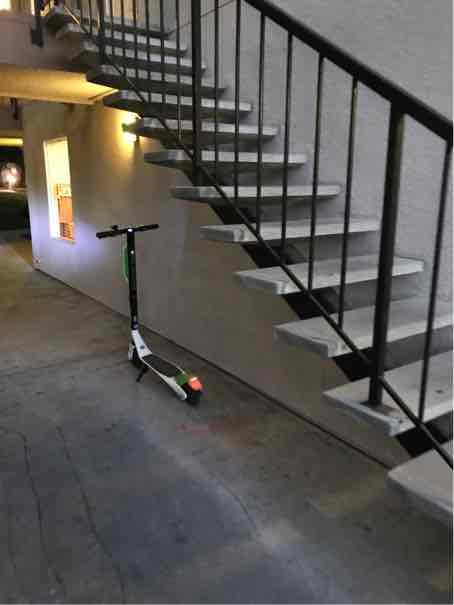scooter: (90, 221, 202, 414)
